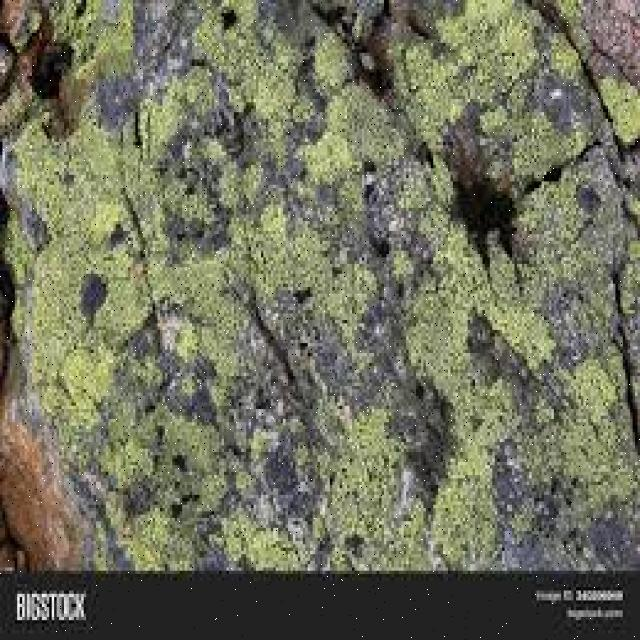Metamorphic: (2, 4, 632, 568)
